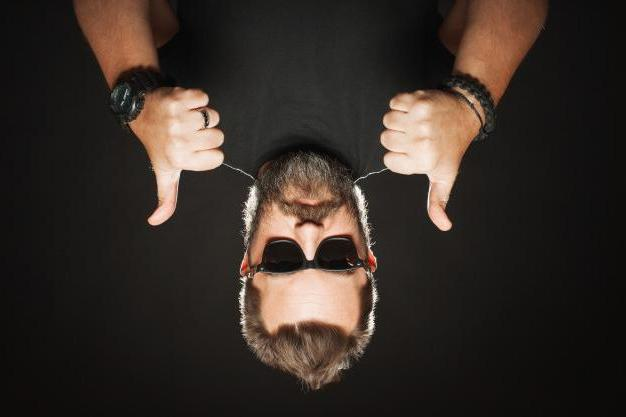thumbsdown: (146, 87, 226, 227), (380, 92, 455, 232)
